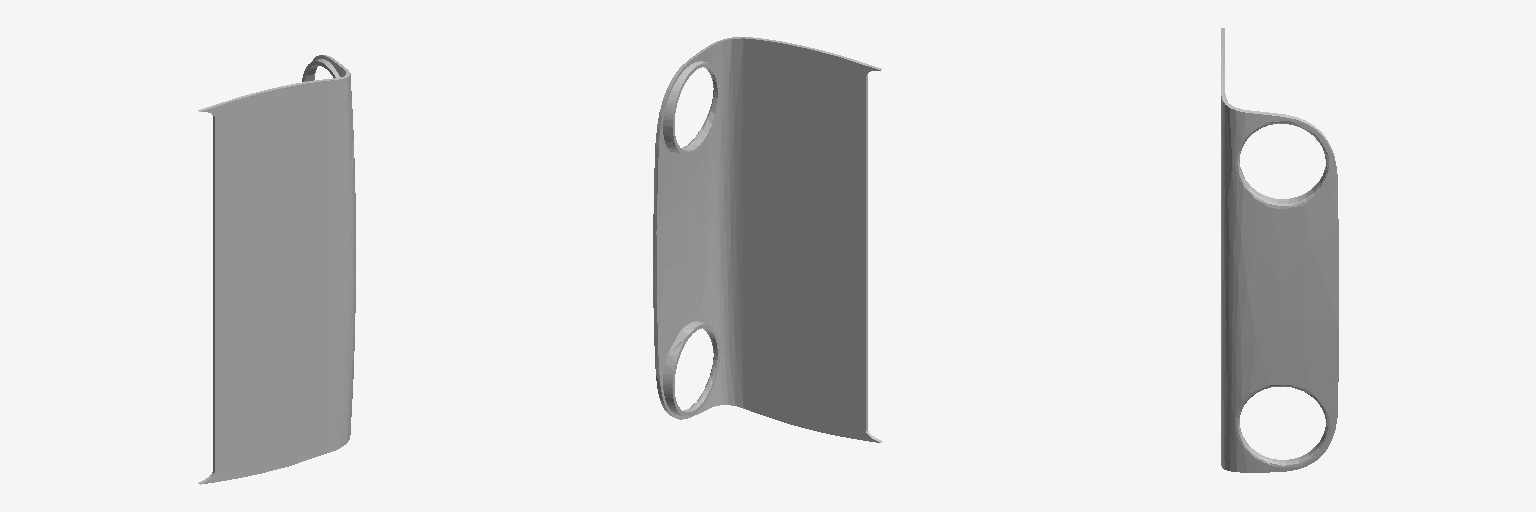
The model's file is head_upper.obj.
3 renders of one model, left to right at view 1: azimuth 30°, elevation 25°; view 2: azimuth 150°, elevation 25°; view 3: azimuth 270°, elevation 25°, orthographic.
Size of the model in its own units: 0.0962 by 0.2042 by 0.0572.